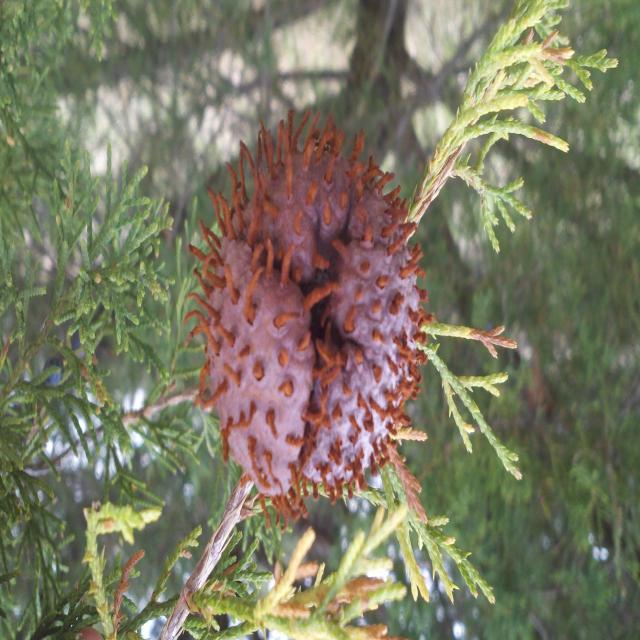Gymnosporangium_Rusts: (152, 78, 436, 511)
